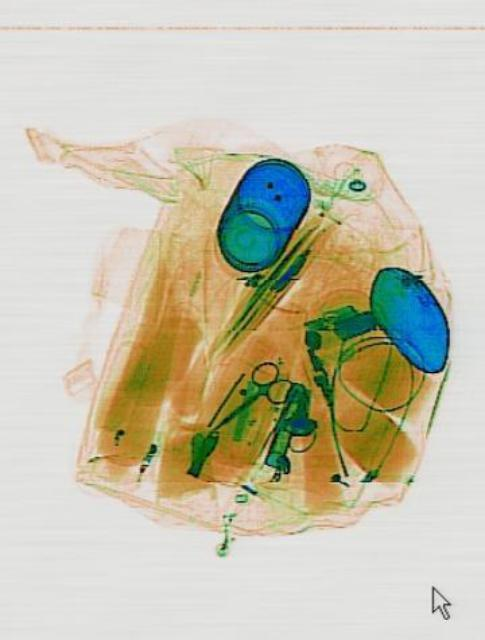Scissors: (191, 349, 294, 455)
